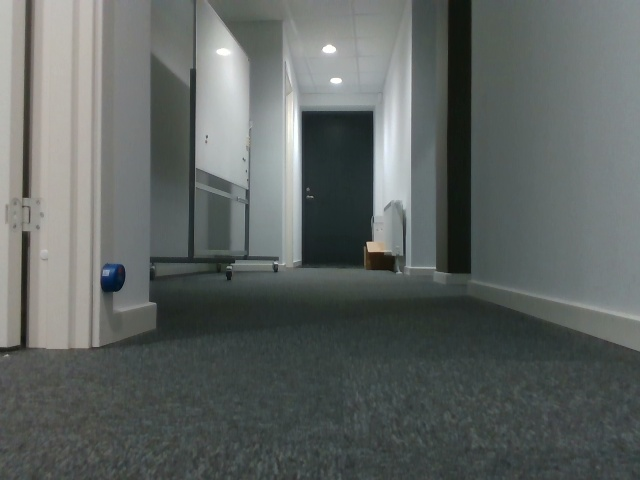alfa: (99, 261, 127, 294)
